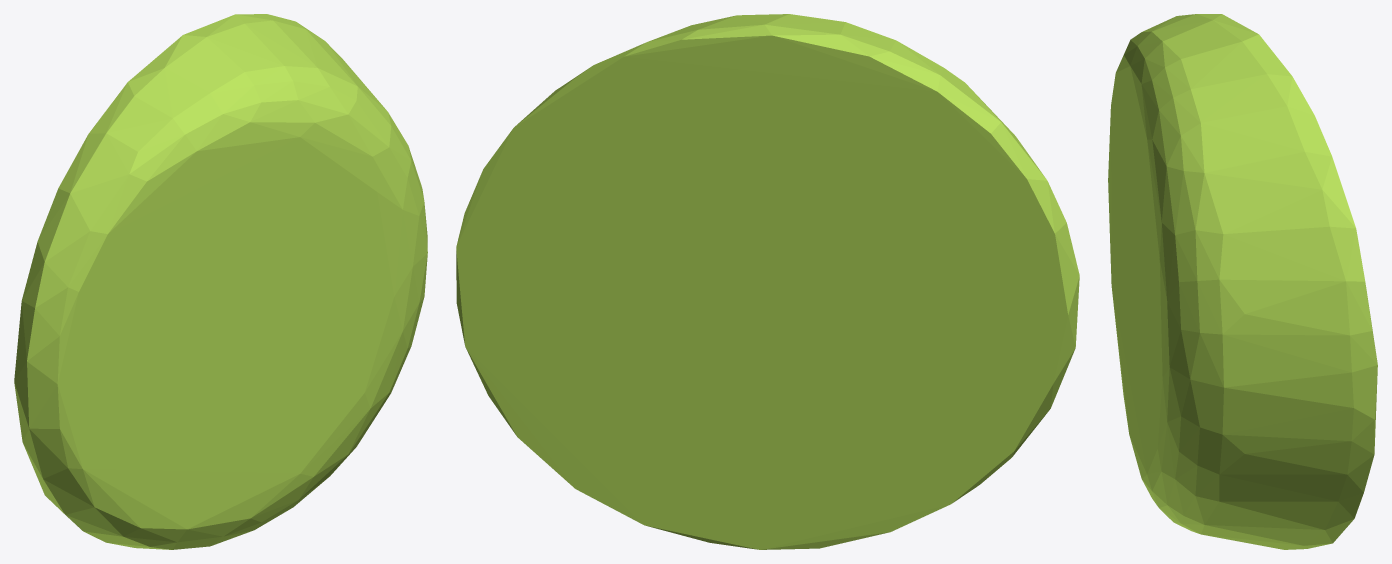
Rendered from industrial_06397_link_respondable_respondable_respondable_respondable_respondable_respondable_coll_1.dae.
3 renders of one model, left to right at view 1: azimuth 30°, elevation 25°; view 2: azimuth 150°, elevation 25°; view 3: azimuth 270°, elevation 25°, orthographic. The views are drawn at different scales.
Parts seen in each view (by area): view 1: node; view 2: node; view 3: node.
Part boxes in pixels (x1,y1,x2,y2): node: (14, 14, 427, 549); node: (456, 14, 1079, 549); node: (1108, 14, 1377, 549).
Bounding box in the file's own units: 0.12 × 0.1201 × 0.0604.
